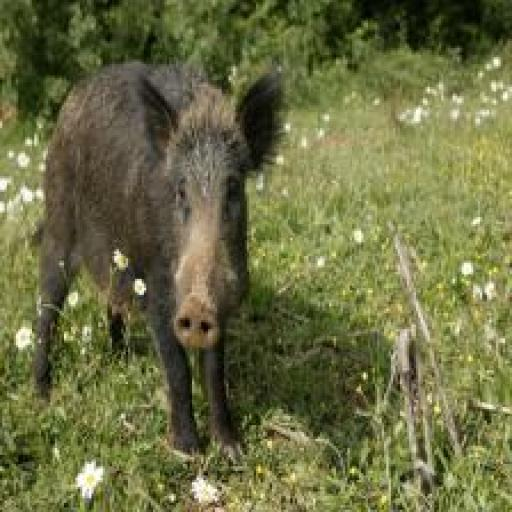Pig: (30, 59, 287, 462)
